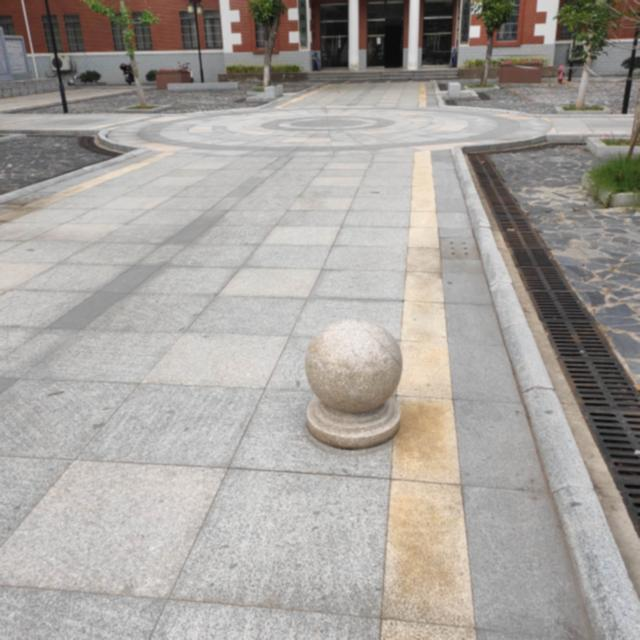bicycle: (63, 73, 81, 85)
fire_hydrant: (557, 64, 565, 83)
motorbike: (120, 58, 134, 84), (178, 61, 194, 83)
pole: (44, 1, 68, 112), (620, 12, 640, 114), (194, 4, 204, 82), (567, 33, 576, 81)
spherical_roadblock: (303, 317, 404, 449)
